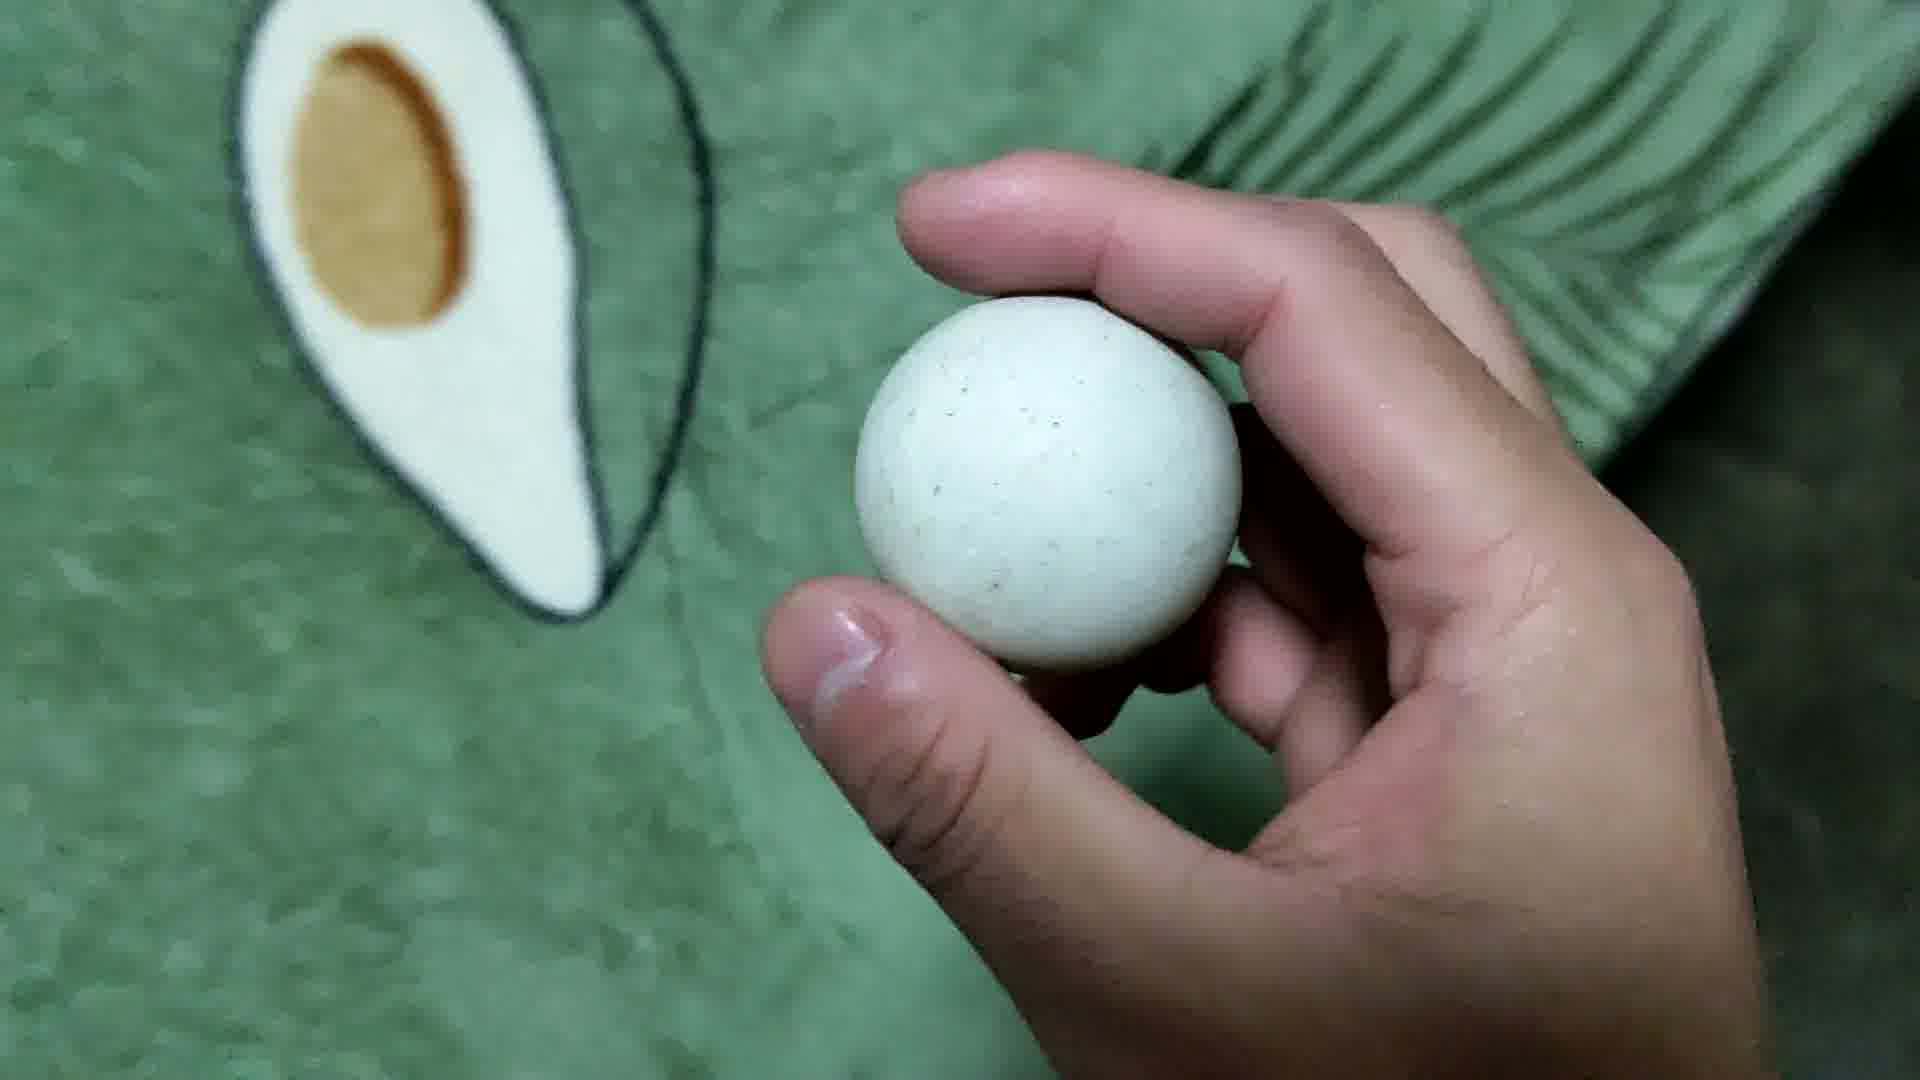Ball: (855, 295, 1238, 663)
